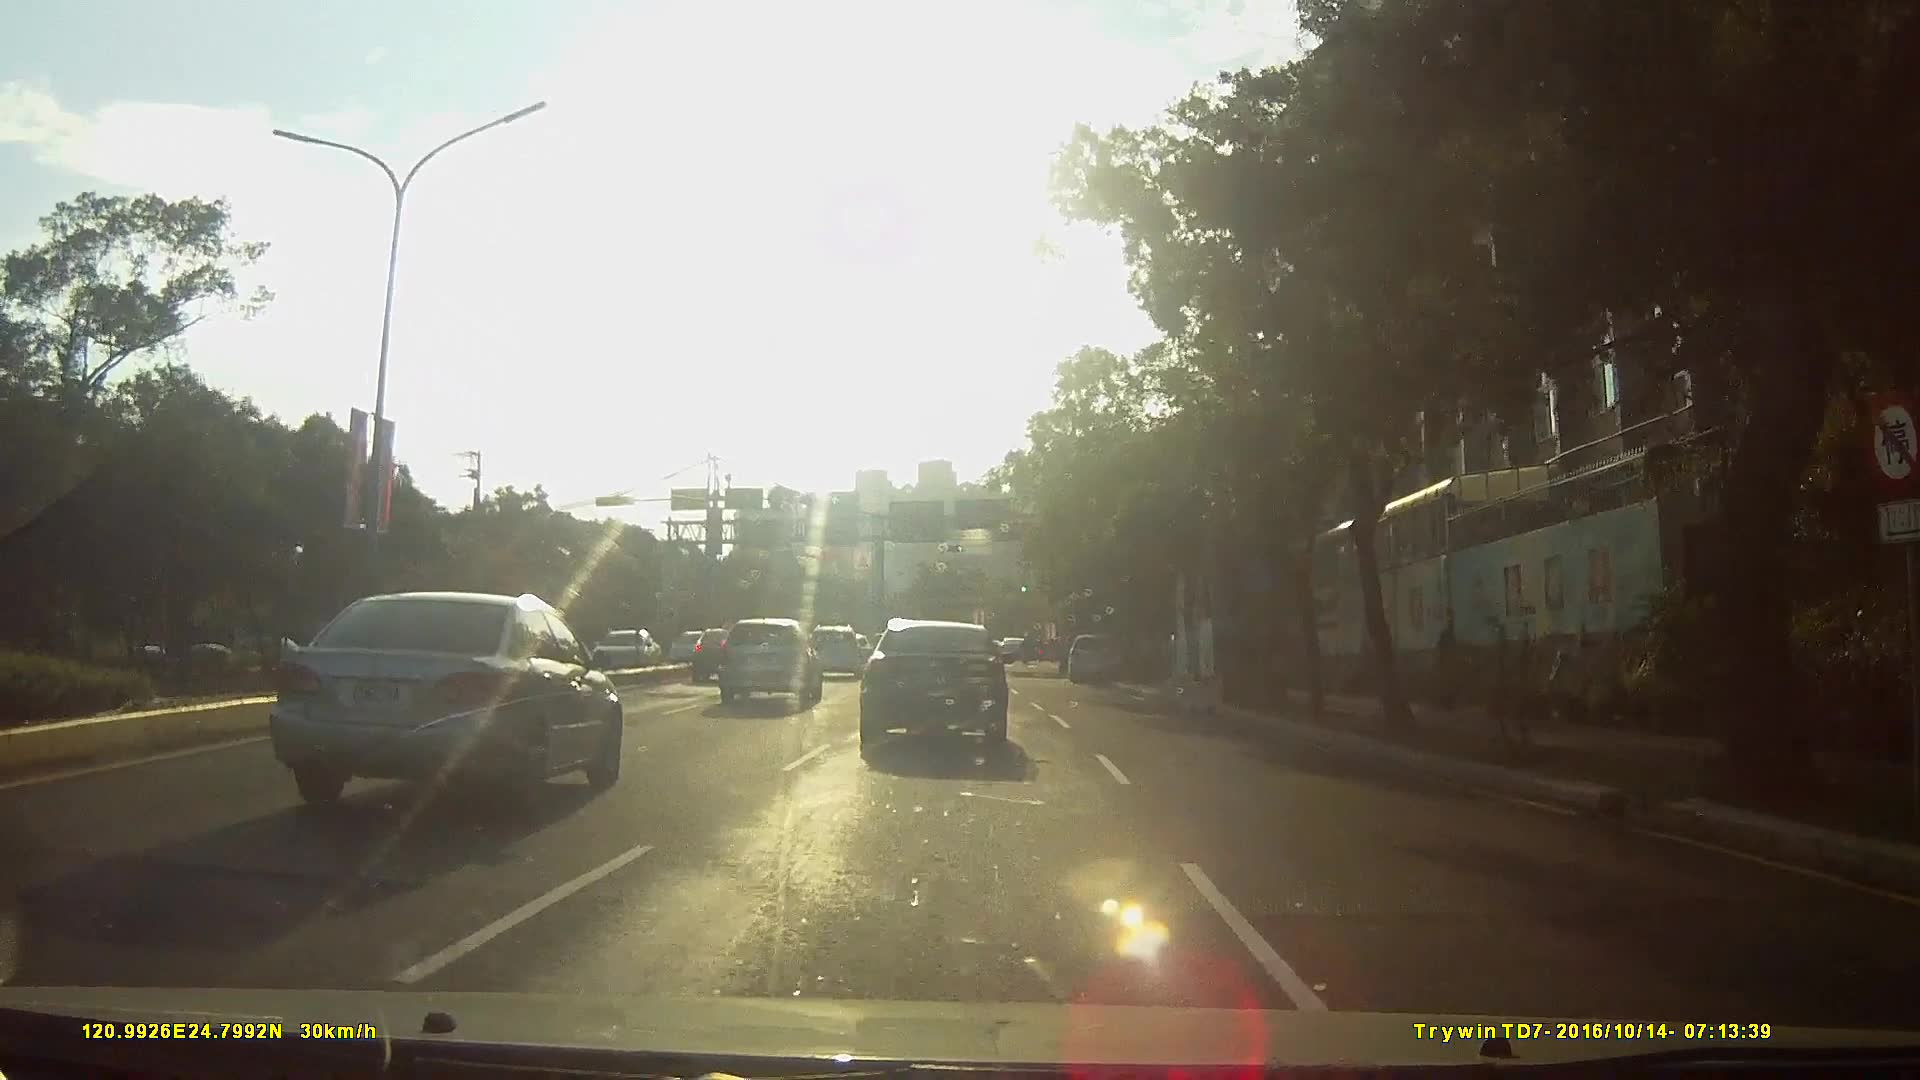vehicle: (245, 582, 636, 824), (858, 609, 1034, 760), (716, 612, 824, 705), (582, 618, 673, 671), (676, 622, 745, 682), (802, 621, 865, 678), (1063, 629, 1120, 680), (669, 626, 717, 665)
